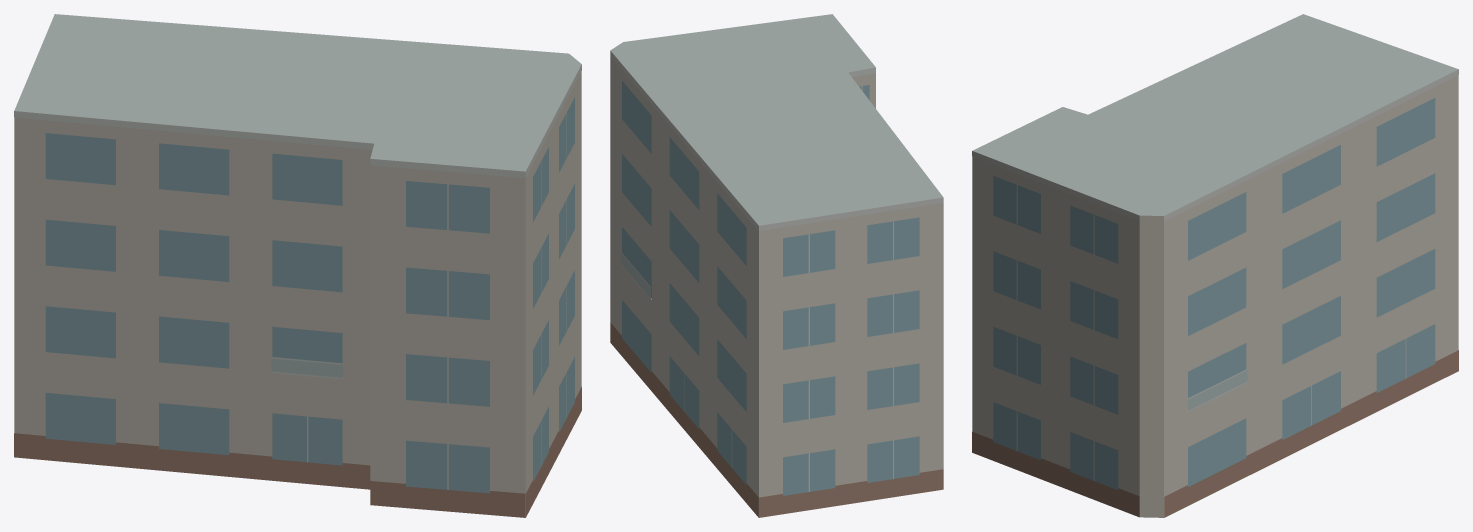
Rendered from survey-upis-32849798.glb.
3 views of the same model, side by side, from view 1: azimuth 30°, elevation 25°; view 2: azimuth 150°, elevation 25°; view 3: azimuth 270°, elevation 25° (orthographic). The views are drawn at different scales.
Parts seen in each view (by area): view 1: survey-upis-32849798.tmp; view 2: survey-upis-32849798.tmp; view 3: survey-upis-32849798.tmp.
Boxes of the visible parts, x1,y1,x2,y2 form: survey-upis-32849798.tmp: [14, 14, 581, 517]; survey-upis-32849798.tmp: [610, 14, 943, 517]; survey-upis-32849798.tmp: [972, 14, 1458, 517].
Bounding box in the file's own units: 18.81 × 13.1 × 19.15.
